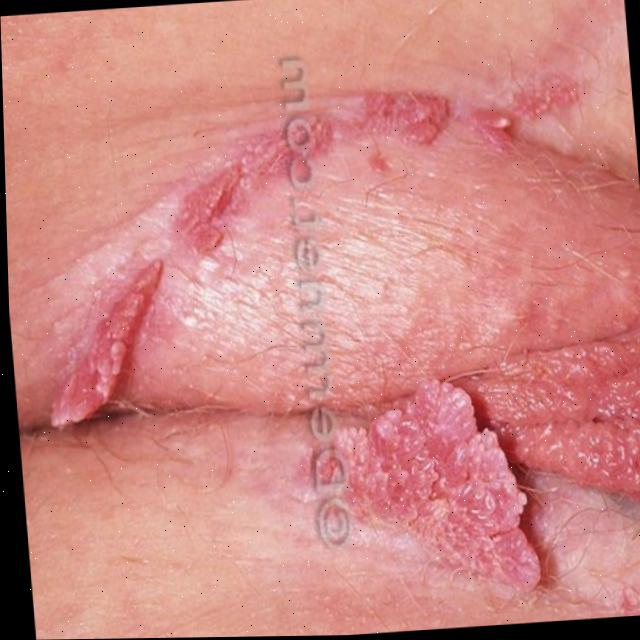Shingles: (20, 87, 476, 427), (328, 326, 640, 617)
